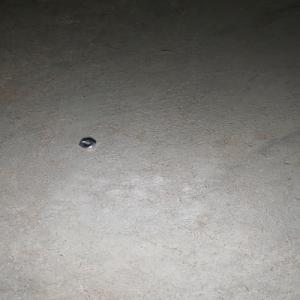Nut: (79, 138, 97, 148)
